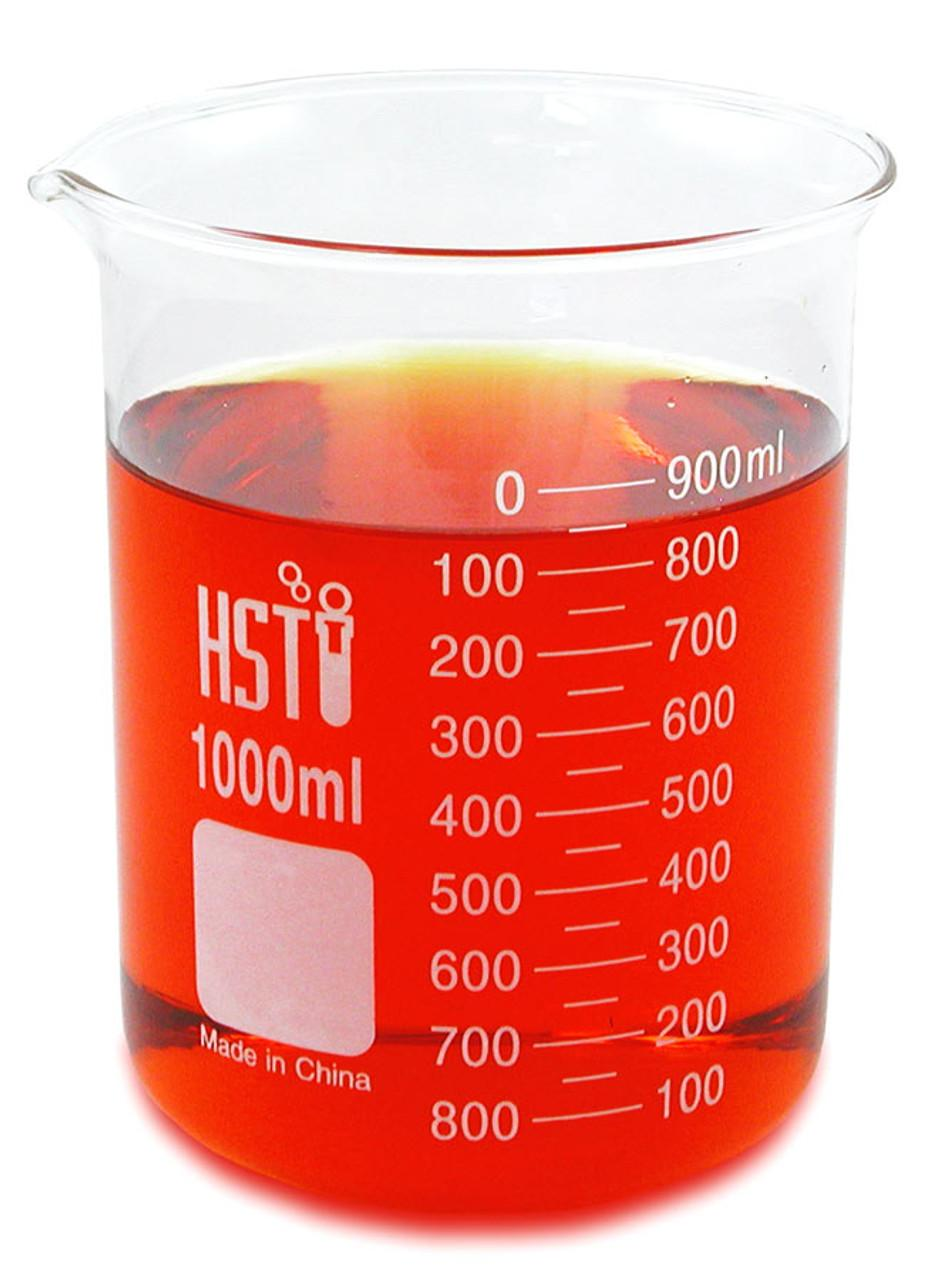Beaker: (7, 115, 894, 1250)
